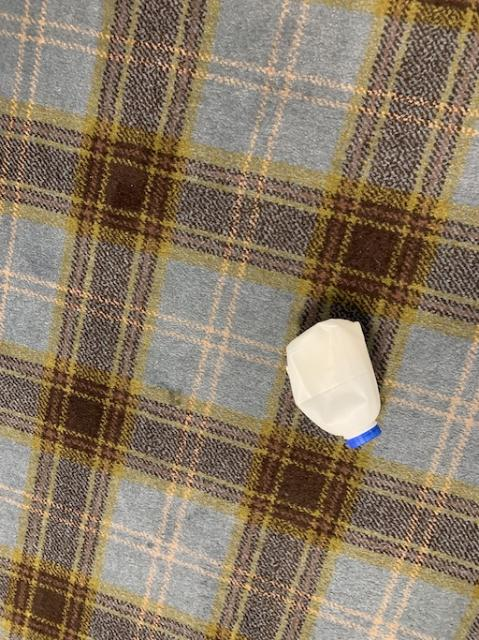plastic: (286, 318, 380, 447)
